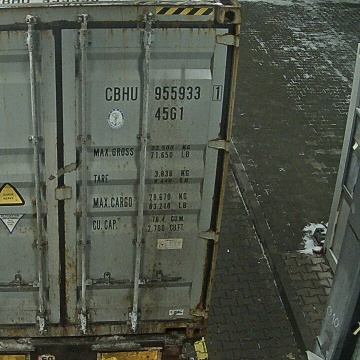serial_id: (105, 86, 221, 101)
